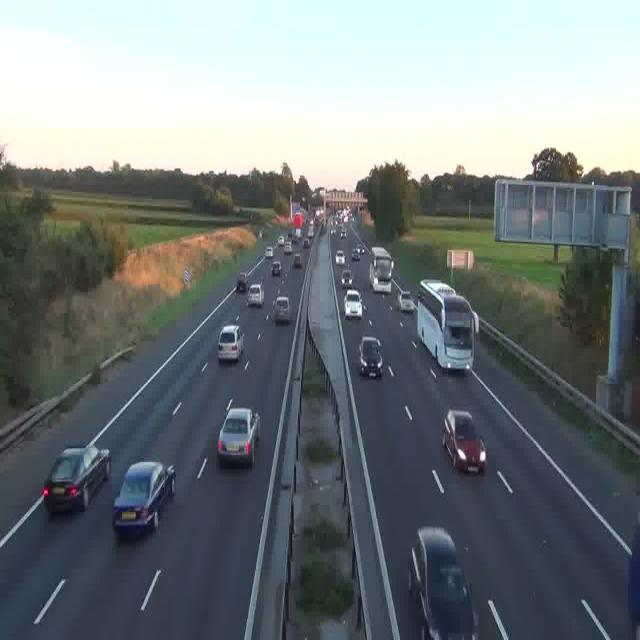bus: (416, 279, 478, 373), (368, 246, 394, 294)
car: (410, 527, 476, 640), (112, 460, 176, 537), (43, 445, 111, 514), (442, 410, 486, 473), (218, 408, 260, 466), (358, 338, 384, 378), (218, 324, 245, 362), (343, 291, 363, 318), (398, 287, 416, 312), (275, 298, 291, 324), (248, 284, 264, 306), (235, 274, 247, 293), (340, 270, 352, 289), (270, 260, 282, 276), (335, 250, 346, 266), (292, 250, 302, 266), (352, 246, 362, 260), (264, 247, 272, 261), (282, 241, 290, 254), (303, 236, 311, 249), (279, 234, 287, 245)
truck: (628, 518, 640, 638), (292, 213, 302, 234)
